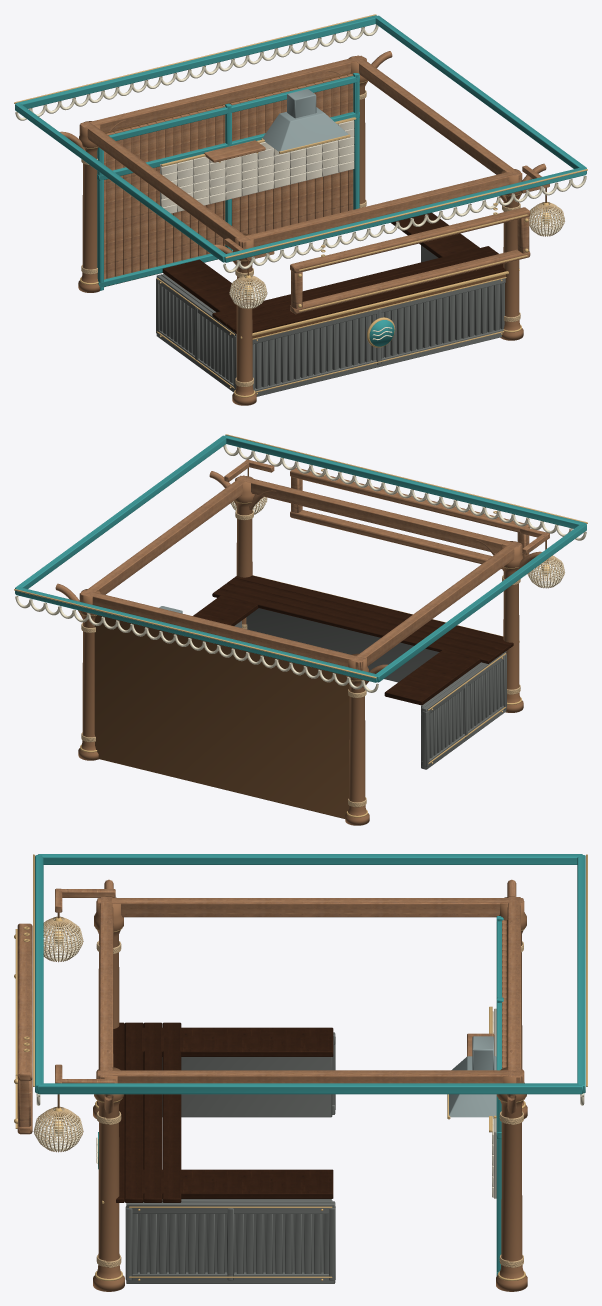
The model's file is kiosk_facade.glb.
3 renders of one model, top to bottom at view 1: azimuth 30°, elevation 25°; view 2: azimuth 150°, elevation 25°; view 3: azimuth 270°, elevation 25°, orthographic. The views are drawn at different scales.
Parts seen in each view (by area): view 1: facade_teak, counter_neutral_gray, facade_paint, counter_dark_oak, facade_brass, facade_glazed_ivory, facade_ivory, facade_kitchen_steel, facade_rope, facade_glazed_sand, facade_shadow_wood; view 2: facade_shadow_wood, facade_teak, counter_dark_oak, facade_paint, counter_neutral_gray, facade_ivory, facade_brass, facade_rope; view 3: facade_teak, counter_neutral_gray, counter_dark_oak, facade_paint, facade_rope, facade_brass, facade_ivory, facade_kitchen_steel.
Boxes of the visible parts, box(x1,y1,x2,y2) form: facade_teak: box(60, 51, 549, 405); counter_neutral_gray: box(156, 245, 505, 396); facade_paint: box(15, 15, 586, 346); counter_dark_oak: box(162, 212, 505, 333); facade_brass: box(14, 14, 587, 397); facade_glazed_ivory: box(161, 120, 354, 211); facade_ivory: box(15, 24, 586, 340); facade_kitchen_steel: box(262, 89, 348, 151); facade_rope: box(81, 90, 564, 386); facade_glazed_sand: box(161, 128, 354, 213); facade_shadow_wood: box(105, 72, 546, 338); facade_shadow_wood: box(94, 467, 546, 818); facade_teak: box(55, 459, 549, 825); counter_dark_oak: box(193, 575, 513, 705); facade_paint: box(15, 435, 586, 682); counter_neutral_gray: box(234, 608, 506, 769); facade_ivory: box(15, 444, 586, 692); facade_brass: box(14, 434, 587, 817); facade_rope: box(81, 497, 564, 807); facade_teak: box(17, 879, 527, 1291); counter_neutral_gray: box(125, 1032, 335, 1283); counter_dark_oak: box(113, 1022, 333, 1202); facade_paint: box(35, 854, 585, 1275); facade_rope: box(33, 916, 523, 1267); facade_brass: box(14, 854, 587, 1280); facade_ivory: box(34, 919, 584, 1163); facade_kitchen_steel: box(449, 1036, 496, 1117).
Bounding box in the file's own units: 6.56 × 3.03 × 6.84.
13 materials, 2 textured.
